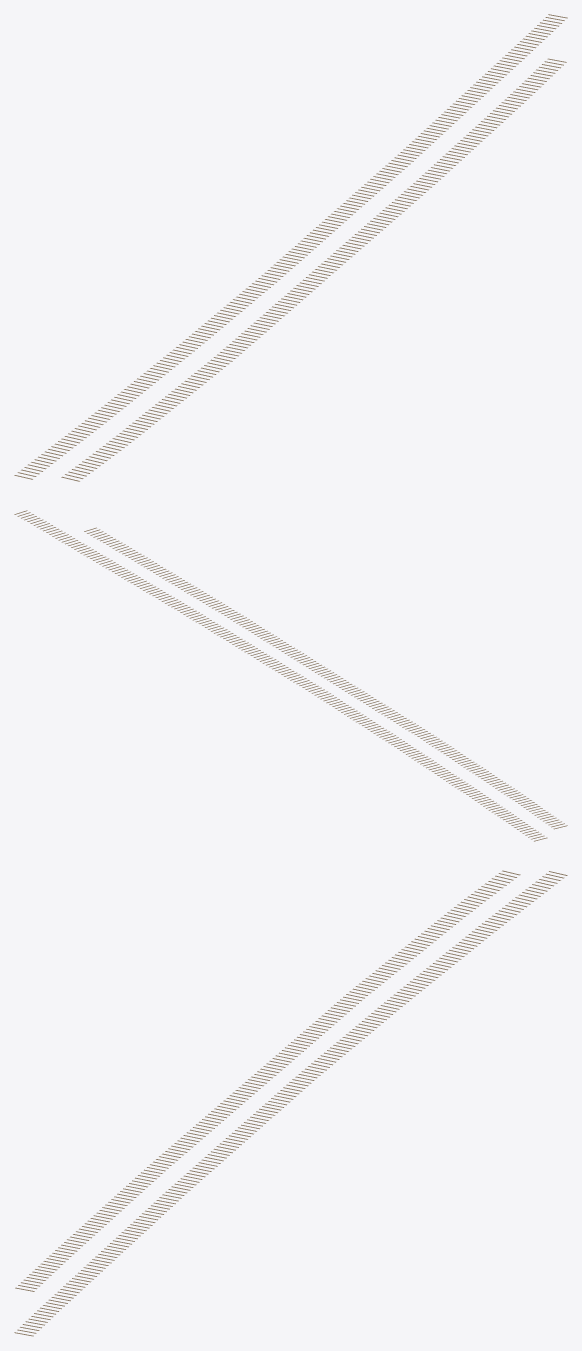
Rendered from c_1625_17829_rail_sleeper.glb.
3 views of the same model, one above another, from view 1: azimuth 90°, elevation 25°; view 2: azimuth 150°, elevation 25°; view 3: azimuth 270°, elevation 25° (orthographic). The views are drawn at different scales.
Visible parts, largest first — view 1: geometry_0; view 2: geometry_0; view 3: geometry_0.
Part boxes in pixels (x1=…): geometry_0: x1=14, y1=14, x2=567, y2=481; geometry_0: x1=14, y1=510, x2=567, y2=841; geometry_0: x1=14, y1=870, x2=567, y2=1336.
Size of the model in its own units: 126 by 0.188 by 63.1.
